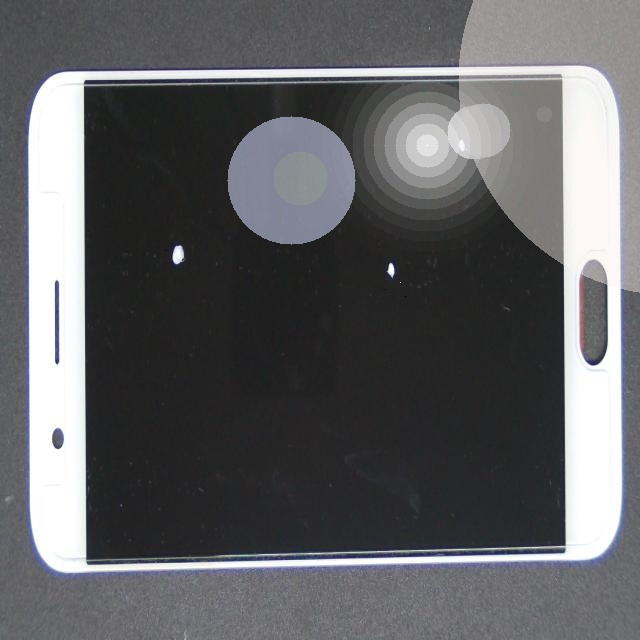stain: (183, 98, 568, 408), (215, 55, 640, 245), (63, 128, 264, 426)
